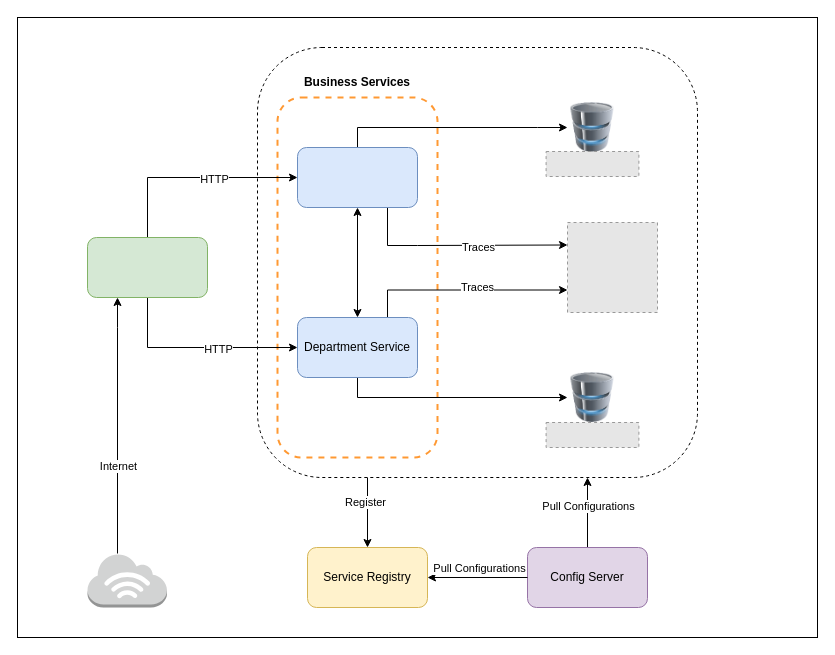
The diagram is 835 pixels wide and 655 high, and some of its shapes have lost their labels. Grey dashed boxes stand in for pictures. The box of each missing label's shape, as (x1, y1, x2, y2) in pixels:
API Gateway: (86, 236, 208, 298)
Employee Service: (296, 146, 418, 208)
